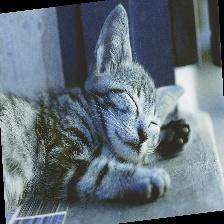kedo: (2, 4, 190, 202)
